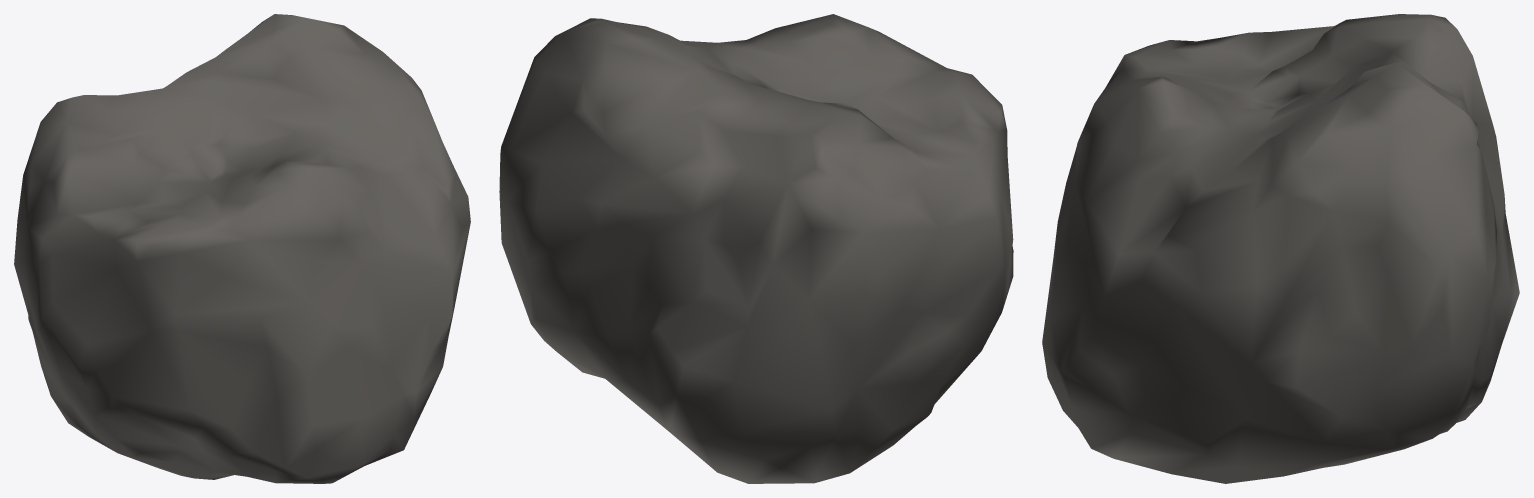
Rendered from CliffsAddition_02.fbx.
The picture shows the model from 3 angles, left to right: view 1: azimuth 30°, elevation 25°; view 2: azimuth 150°, elevation 25°; view 3: azimuth 270°, elevation 25°; orthographic projection. The views are drawn at different scales.
Parts seen in each view (by area): view 1: CliffsAddition_02; view 2: CliffsAddition_02; view 3: CliffsAddition_02.
Part boxes in pixels (x1=…): CliffsAddition_02: x1=14, y1=14, x2=470, y2=483; CliffsAddition_02: x1=499, y1=14, x2=1013, y2=483; CliffsAddition_02: x1=1042, y1=14, x2=1519, y2=483.
Bounding box in the file's own units: 12129 × 10898 × 10687.
